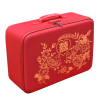shoutibox: (6, 11, 96, 95)
